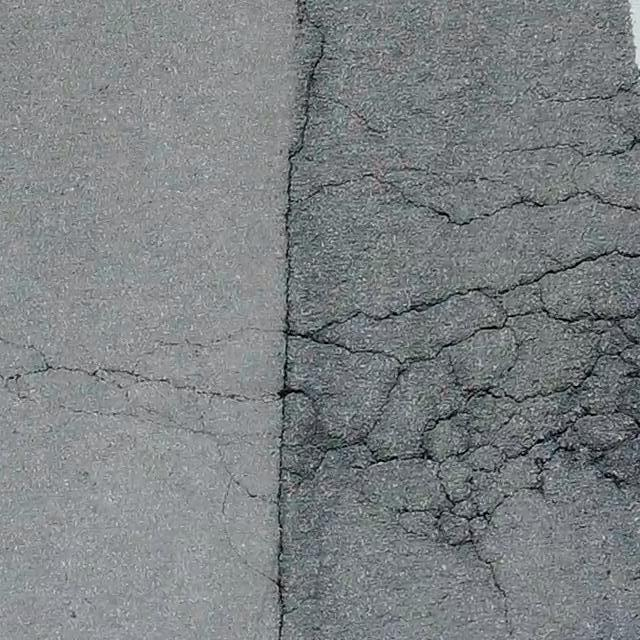GRIETA: (275, 0, 326, 639), (472, 548, 514, 639)
PIEL DE COCODRILO: (284, 251, 639, 551), (0, 322, 283, 589), (297, 70, 639, 226)
